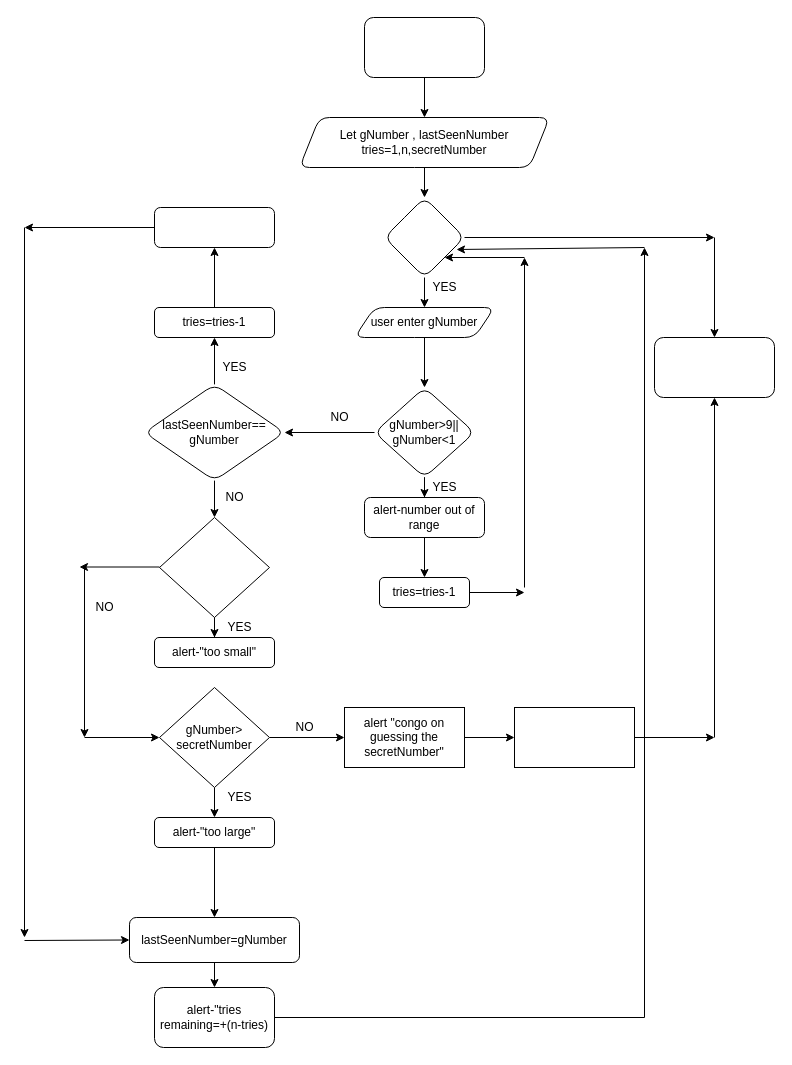
The diagram is 792 pixels wide and 1065 high, and some of its shapes have lost their labels. The centre of each missing label's shape, as x and y in pixels:
alert="number same as previous number": point (214, 227)
END: point (714, 367)
gNumber< secretNumber: point (214, 567)
START: point (424, 47)
tries remaining=(n-tries): point (574, 737)
tries<=n: point (424, 237)
